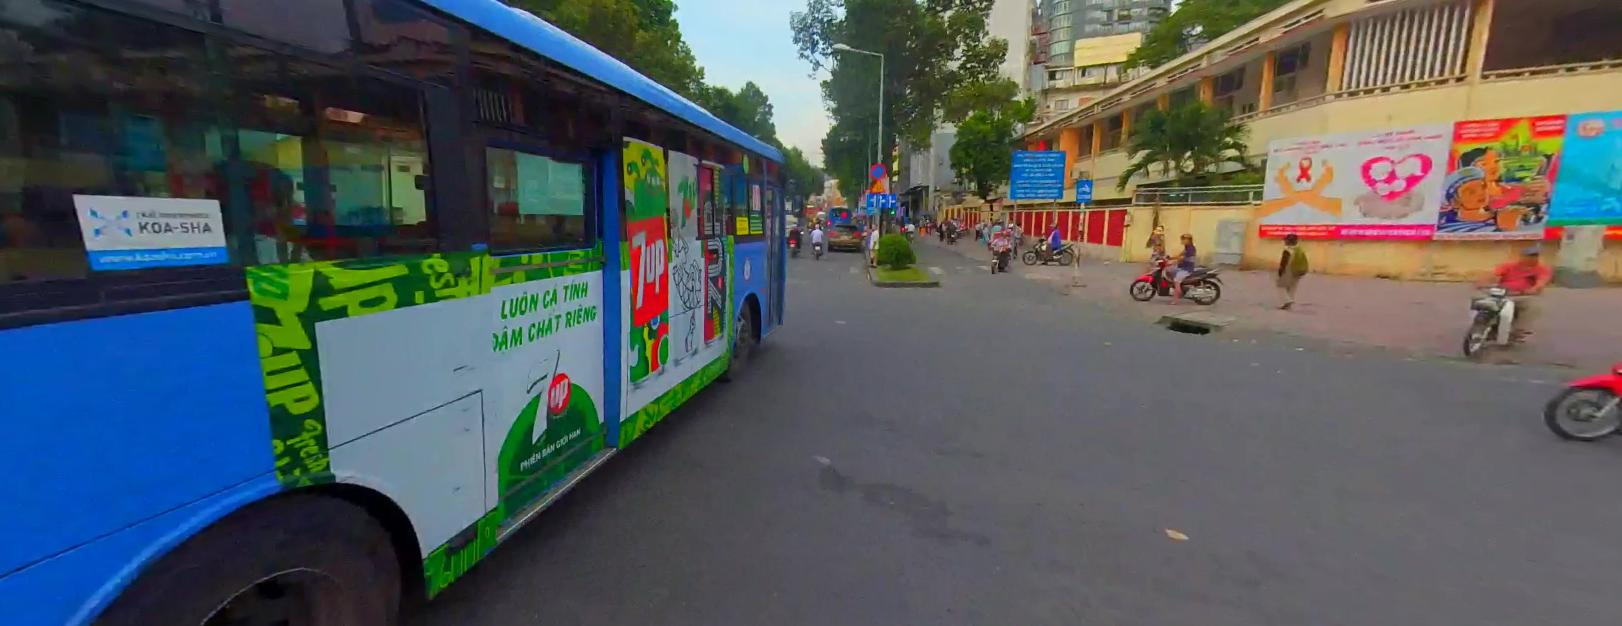Cam dung va do: (870, 161, 885, 177)
Nguy hiem: (869, 179, 887, 191)
